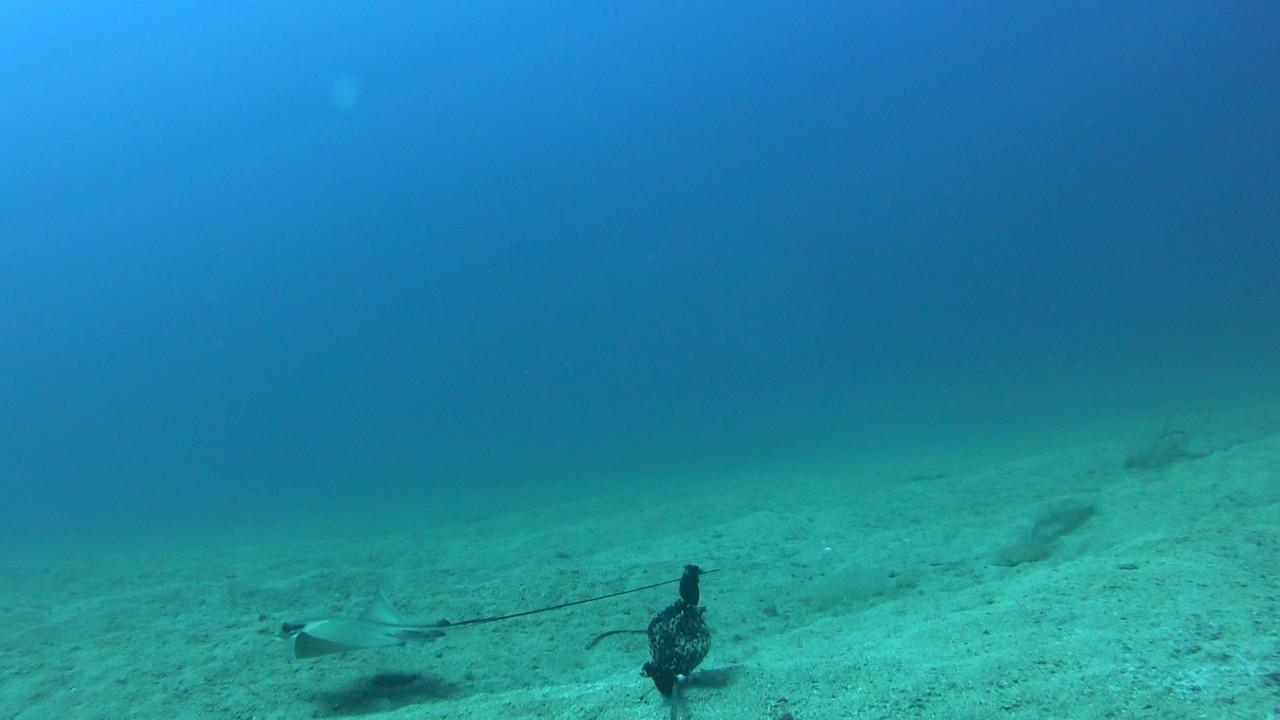myliobatis: (249, 548, 756, 665)
raor: (1027, 493, 1100, 548)
